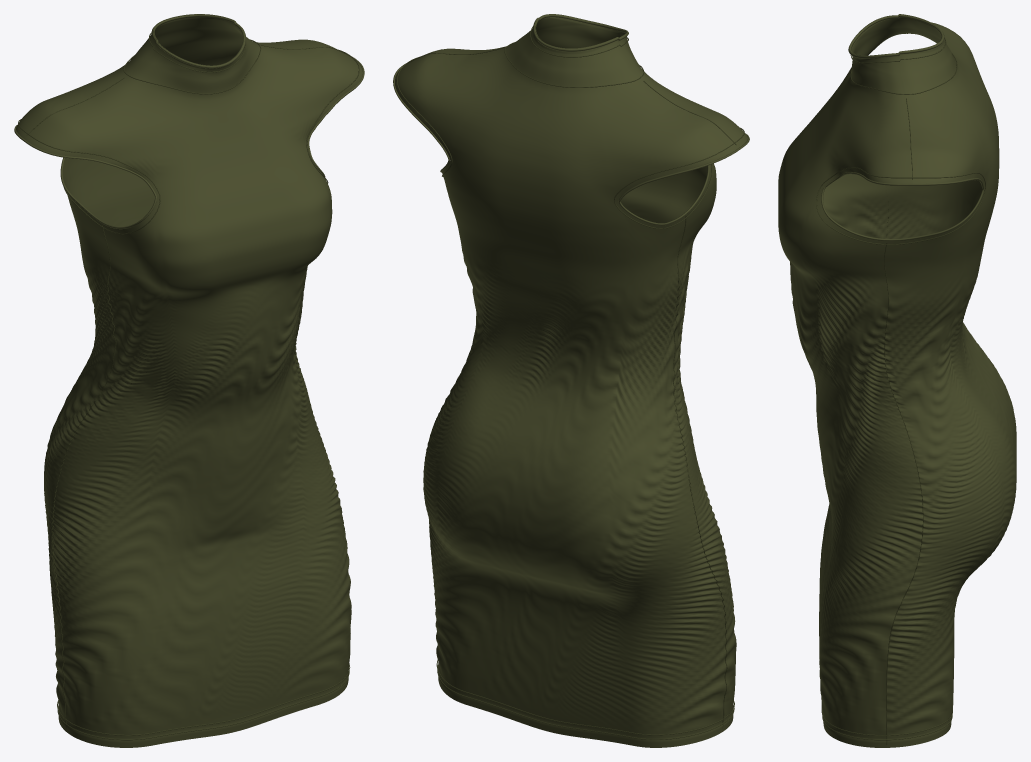
File: vestido-mini-firerie_M.glb
3 renders of one model, left to right at view 1: azimuth 30°, elevation 25°; view 2: azimuth 150°, elevation 25°; view 3: azimuth 270°, elevation 25°, orthographic. The views are drawn at different scales.
Visible parts, largest first — view 1: vestido, canesu, sisa-borde, cuello-borde, pespunte; view 2: vestido, canesu, cuello-borde, sisa-borde, pespunte; view 3: vestido, canesu, pespunte (×2), sisa-borde, cuello-borde.
Boxes of the visible parts, bbox=[...] form: vestido: bbox=[44, 158, 351, 747]; canesu: bbox=[16, 14, 362, 197]; sisa-borde: bbox=[14, 125, 156, 229]; cuello-borde: bbox=[151, 14, 245, 68]; pespunte: bbox=[51, 225, 116, 728]; vestido: bbox=[423, 160, 736, 747]; canesu: bbox=[395, 14, 747, 201]; cuello-borde: bbox=[533, 14, 628, 51]; sisa-borde: bbox=[618, 134, 749, 225]; pespunte: bbox=[673, 216, 727, 728]; vestido: bbox=[778, 125, 1016, 747]; canesu: bbox=[804, 14, 998, 187]; pespunte (×2): bbox=[816, 167, 985, 744]; sisa-borde: bbox=[821, 172, 984, 240]; cuello-borde: bbox=[848, 14, 944, 58].
Size of the model in its own units: 0.4454 by 0.8611 by 0.2824.
